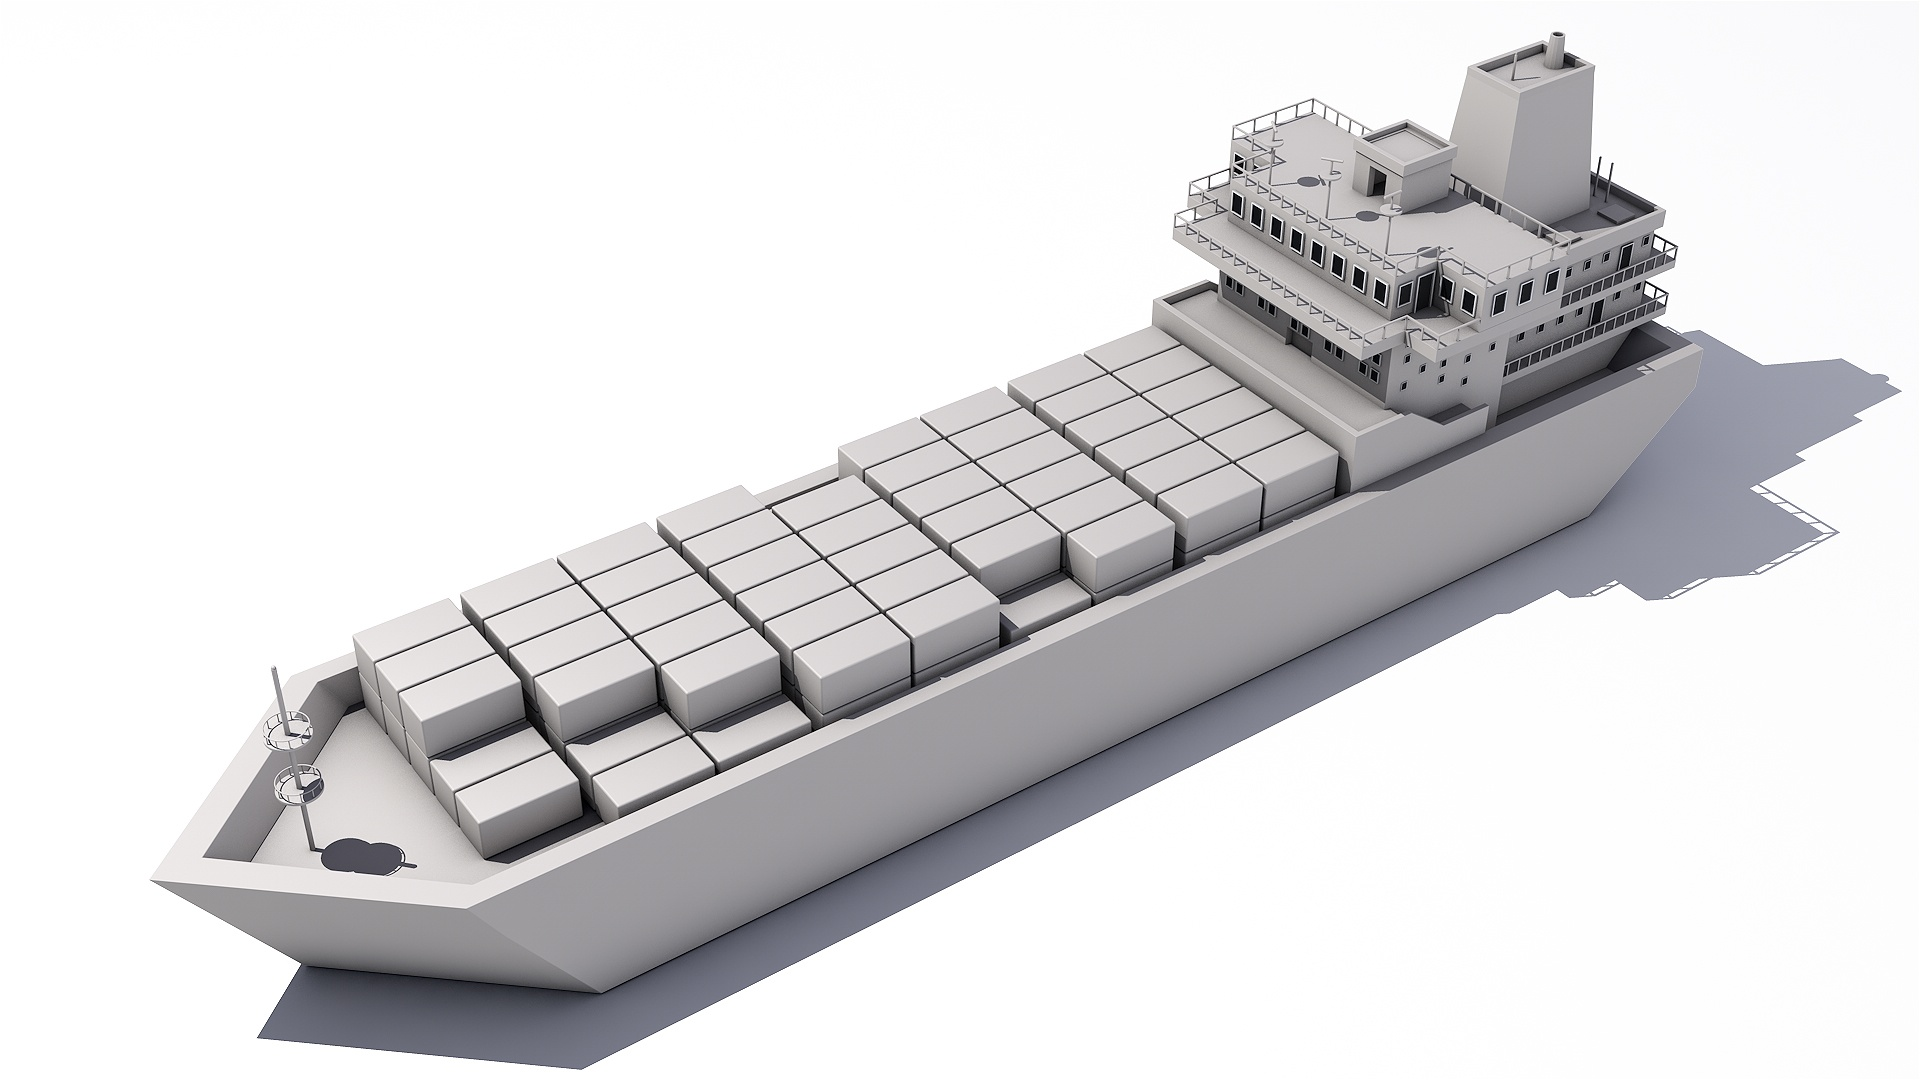Cargoship: (156, 26, 1683, 973)
